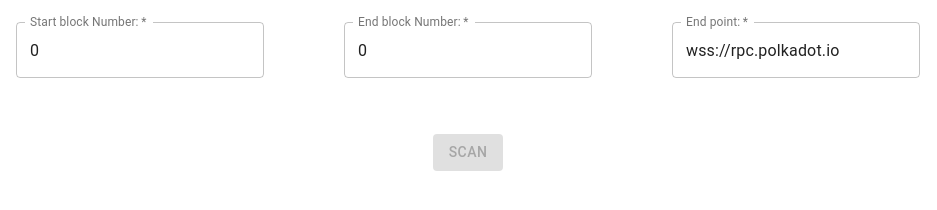
polkadot scanner form › validation of end point
Note: URL check
Replace the text in the field next to "End point:" with "abcdefg": (796, 50) [672,22,920,78]
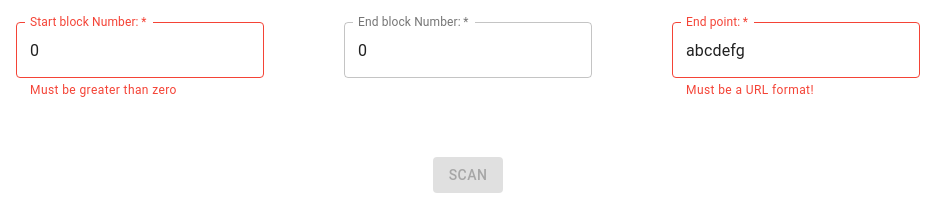
Expected: the text "Must be a URL format!" is shown, [686,83,814,97]
